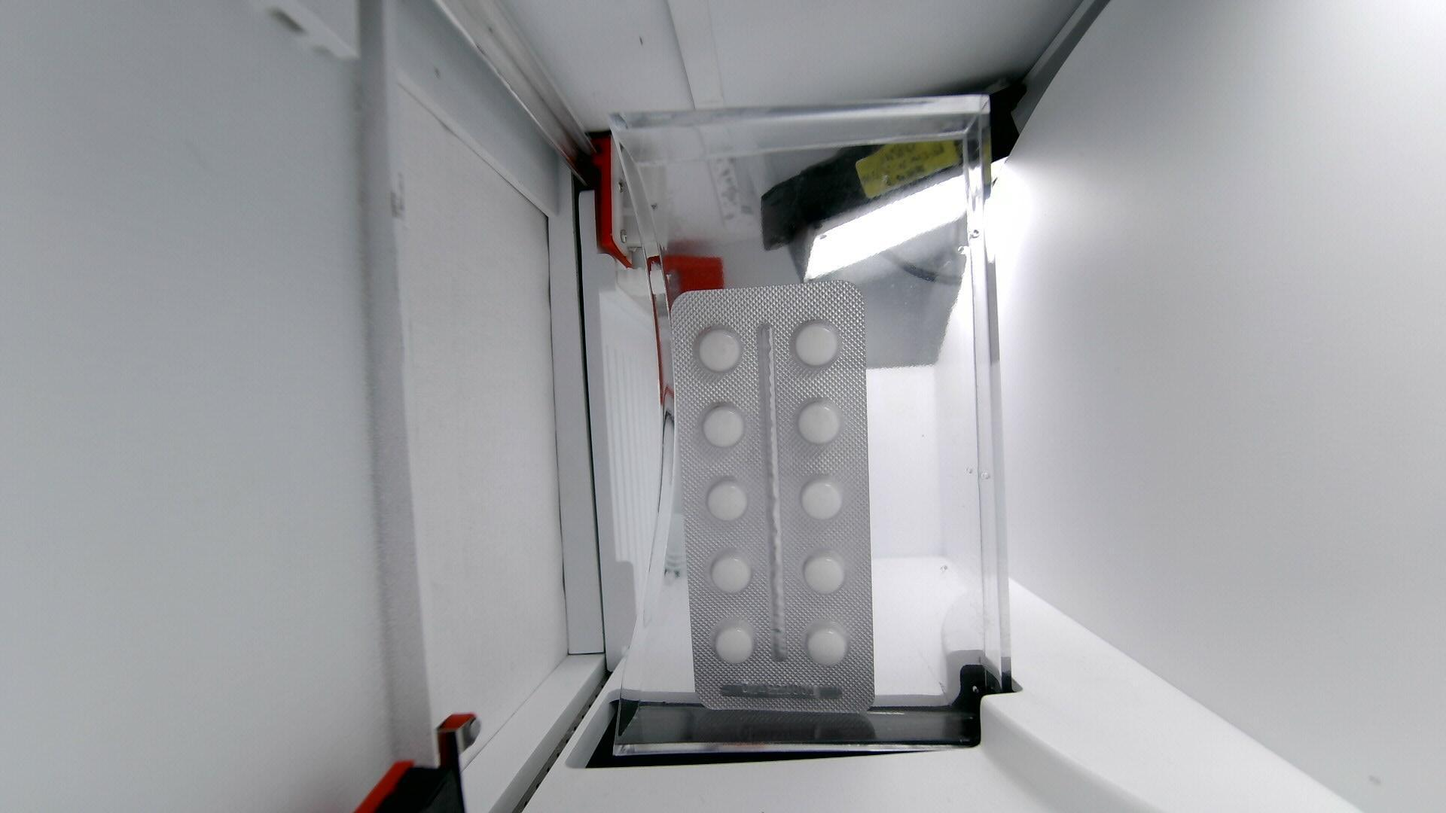Light Front: (673, 282, 874, 712)
Pill Front: (801, 551, 856, 593), (694, 325, 741, 372), (792, 321, 840, 367), (805, 621, 853, 666), (797, 399, 842, 444), (712, 620, 757, 665), (801, 476, 845, 519), (709, 550, 752, 594), (706, 477, 747, 521), (701, 406, 744, 446)
